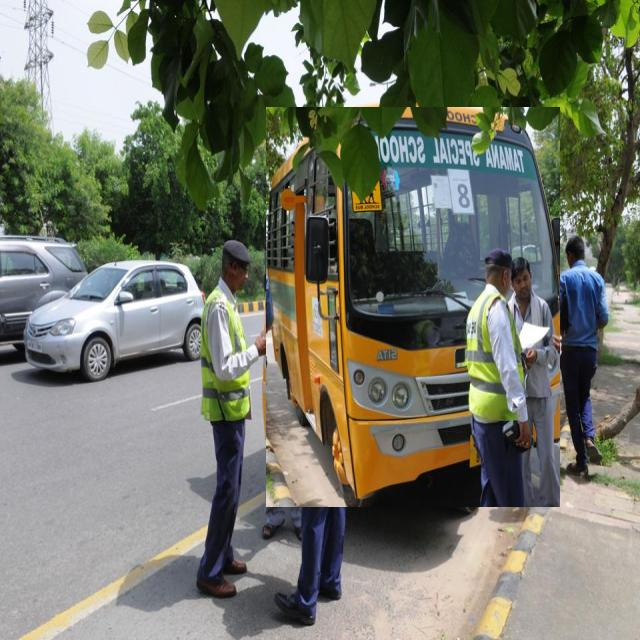bus: (266, 107, 560, 507)
car: (24, 260, 205, 381)
